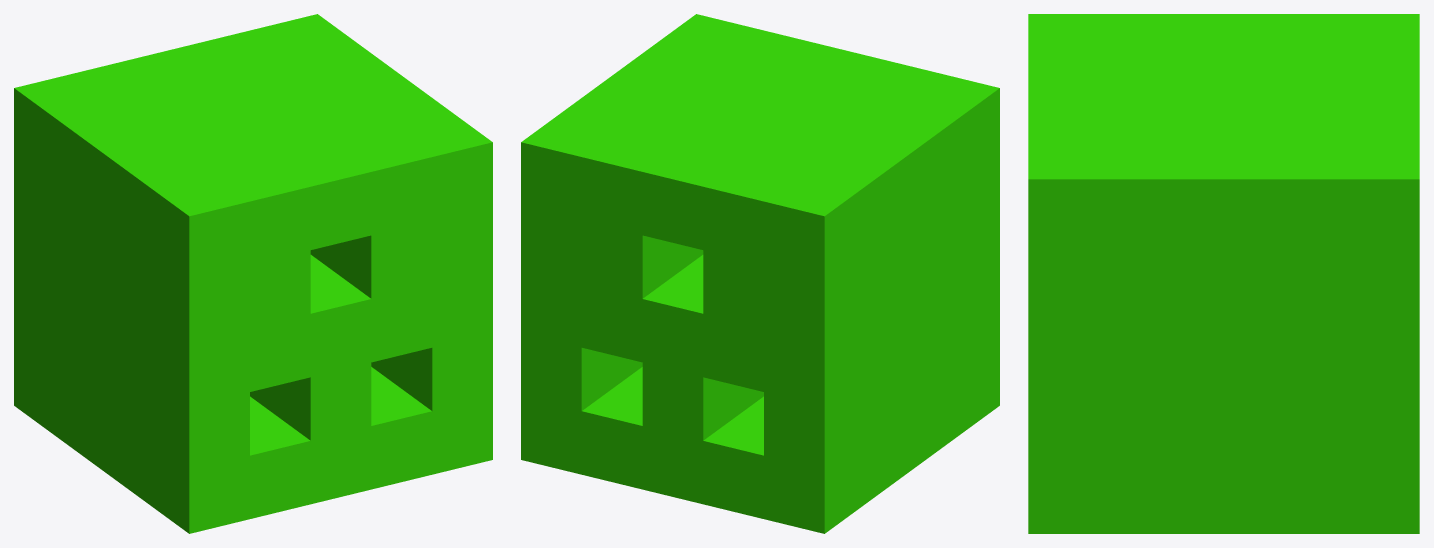
The model's file is davidCubeVarB3.gltf.
3 renders of one model, left to right at view 1: azimuth 30°, elevation 25°; view 2: azimuth 150°, elevation 25°; view 3: azimuth 270°, elevation 25°, orthographic. The views are drawn at different scales.
Parts seen in each view (by area): view 1: davidCubeVarB3; view 2: davidCubeVarB3; view 3: davidCubeVarB3.
Boxes of the visible parts, x1,y1,x2,y2 form: davidCubeVarB3: (14,14,492,533); davidCubeVarB3: (521,14,999,533); davidCubeVarB3: (1028,14,1419,533).
Size of the model in its own units: 0.6695 by 0.6695 by 0.6695.
